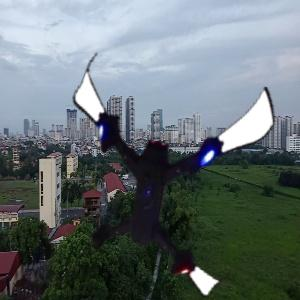drone: (41, 53, 269, 281)
